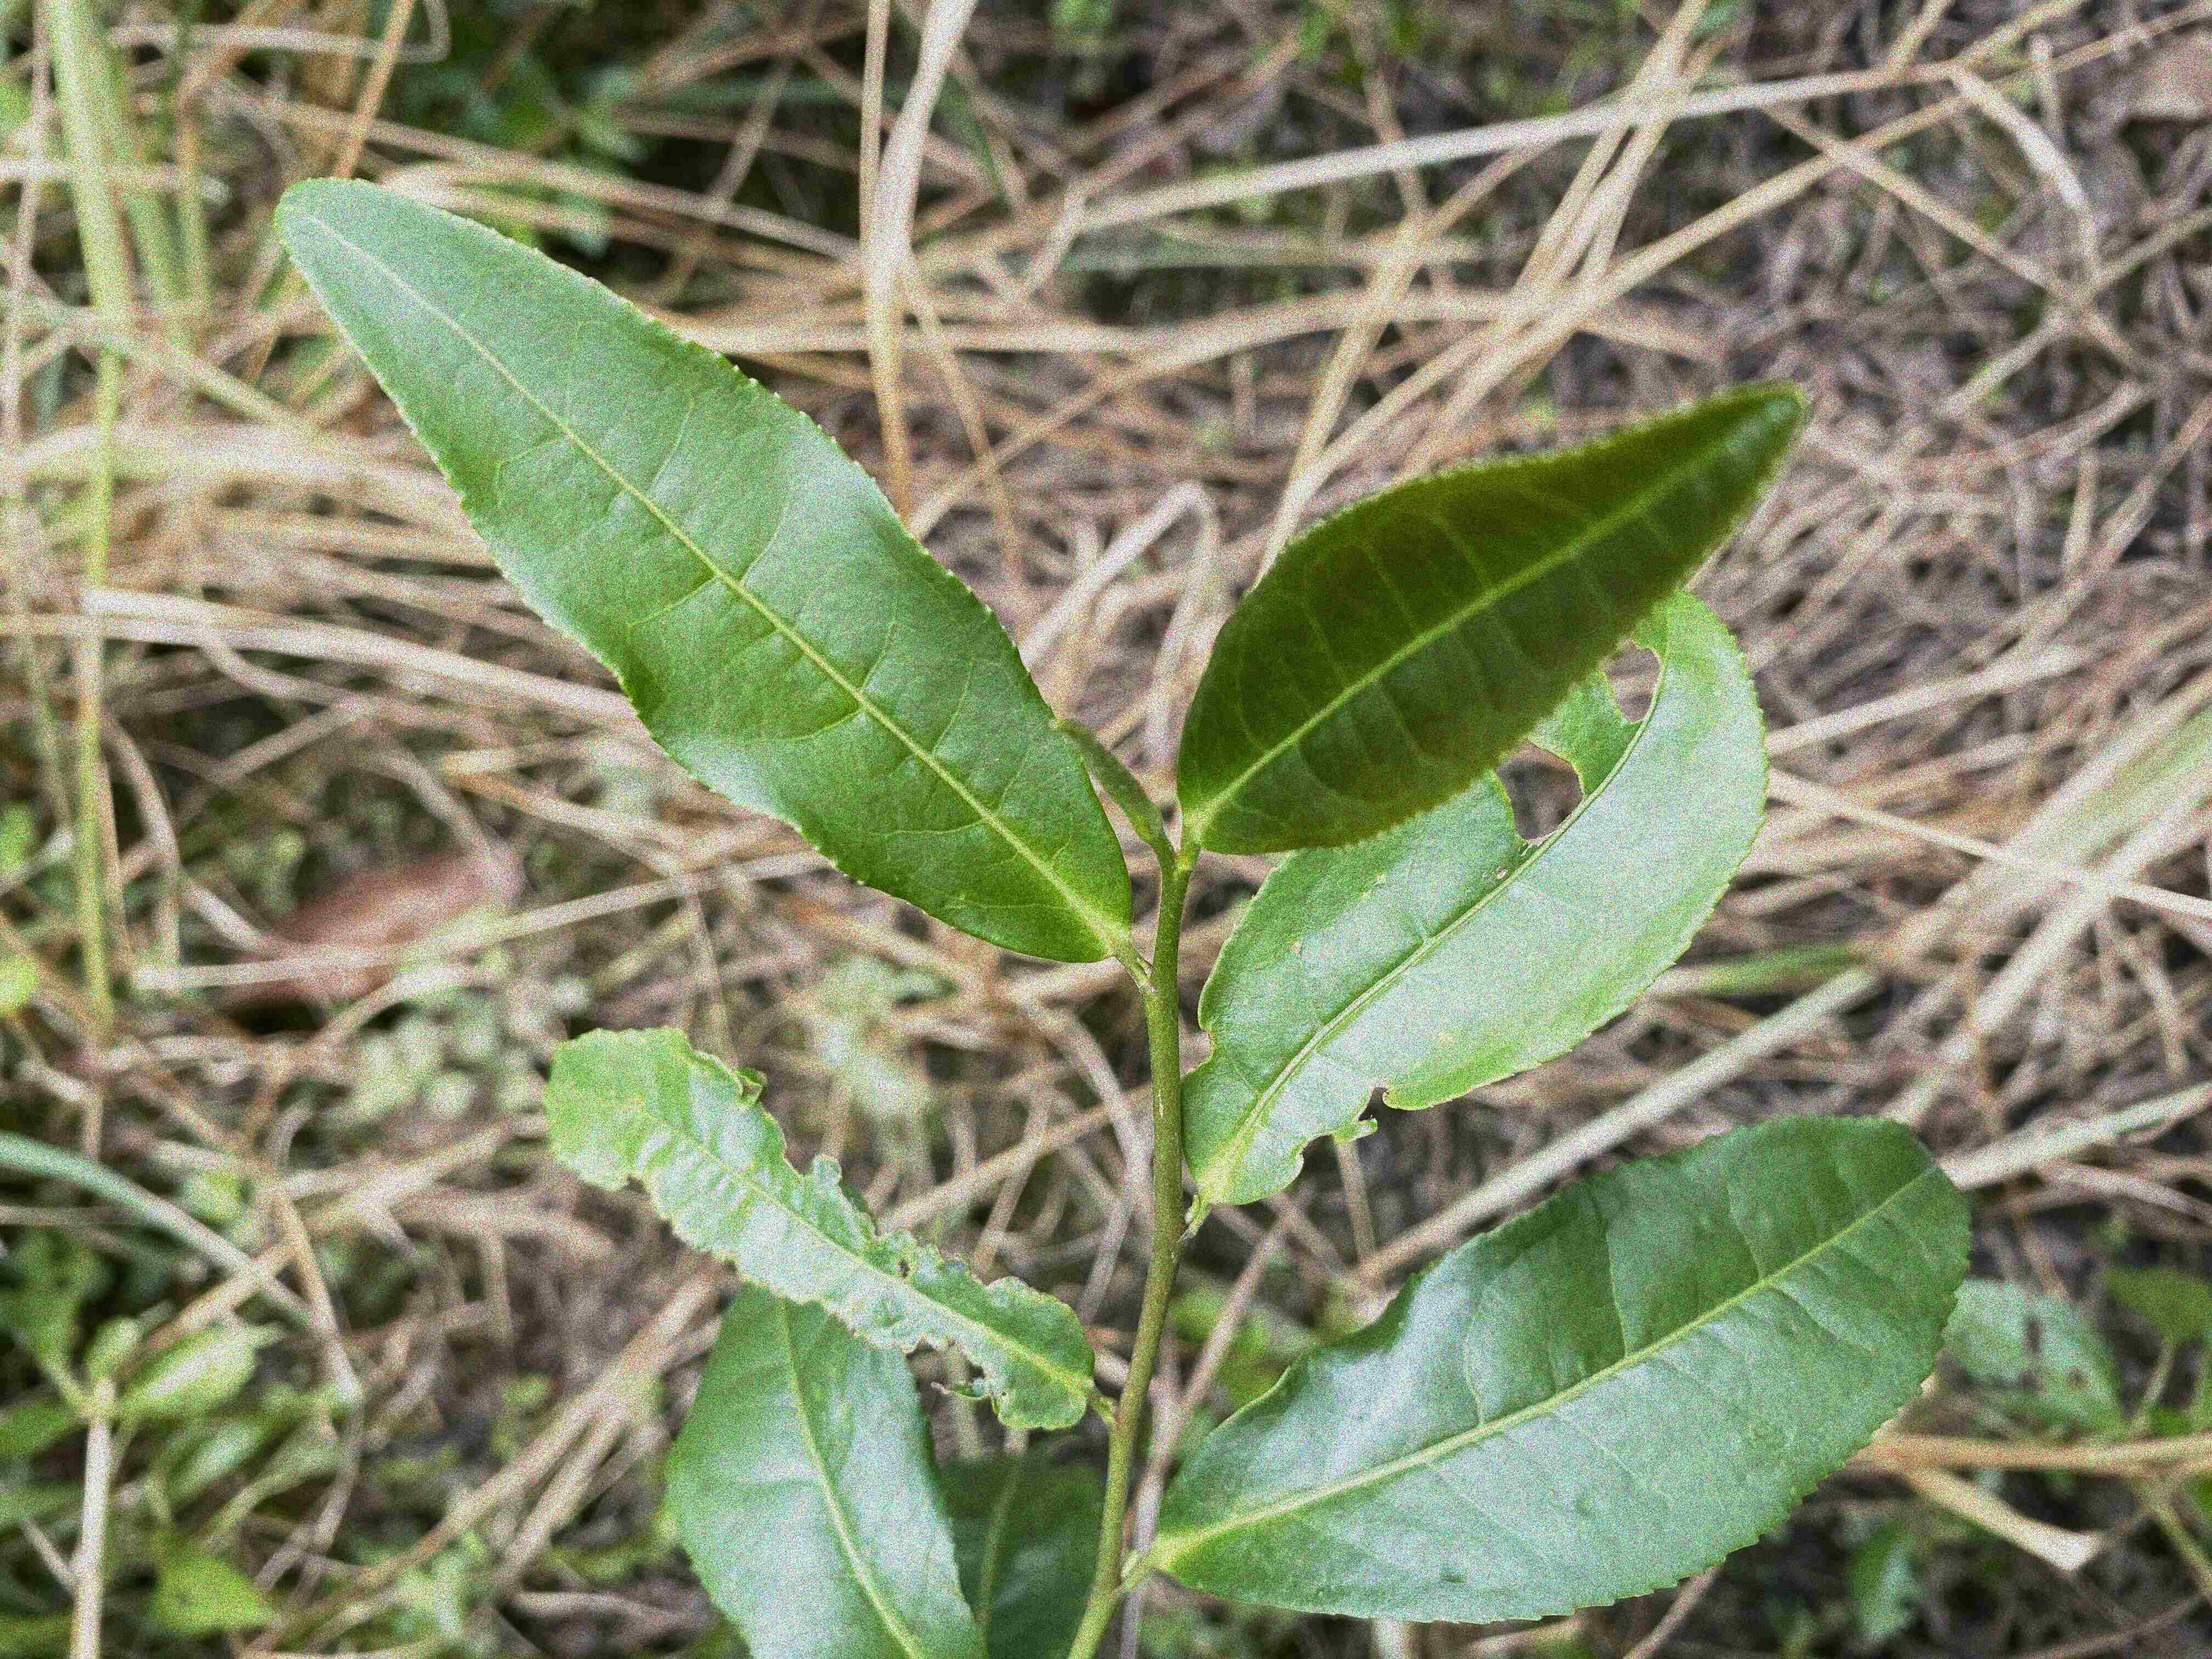chihuo_high: (1181, 589, 1773, 1204), (536, 1023, 1101, 1431)
healthy: (273, 181, 1136, 965), (1153, 1110, 1979, 1626), (1177, 383, 1799, 857), (667, 1295, 981, 1657)
